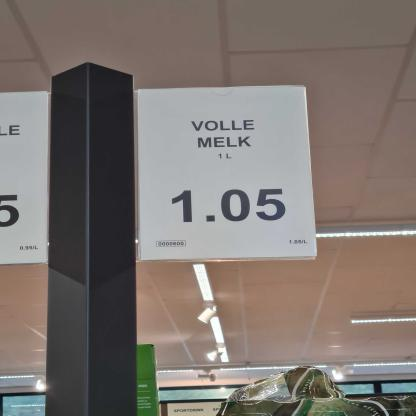prtg: (138, 87, 317, 264), (1, 91, 50, 266)
